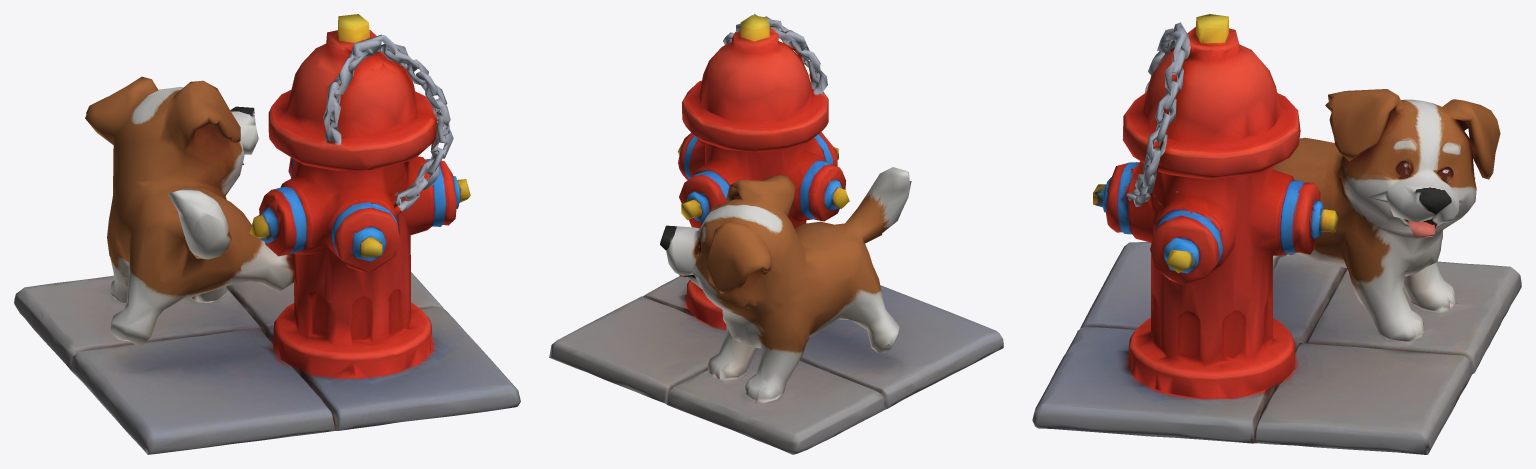
Rendered from CenarioHidrante.glb.
3 renders of one model, left to right at view 1: azimuth 30°, elevation 25°; view 2: azimuth 150°, elevation 25°; view 3: azimuth 270°, elevation 25°, orthographic. The views are drawn at different scales.
Parts seen in each view (by area): view 1: tripo_node_937ae449-fff4-4d2a-89b2-c7af9472cdce; view 2: tripo_node_937ae449-fff4-4d2a-89b2-c7af9472cdce; view 3: tripo_node_937ae449-fff4-4d2a-89b2-c7af9472cdce.
Boxes of the visible parts, x1,y1,x2,y2 form: tripo_node_937ae449-fff4-4d2a-89b2-c7af9472cdce: (14,14,520,454); tripo_node_937ae449-fff4-4d2a-89b2-c7af9472cdce: (549,14,1003,454); tripo_node_937ae449-fff4-4d2a-89b2-c7af9472cdce: (1032,14,1521,454).
Size of the model in its own units: 0.4046 by 0.35 by 0.4246.
Materials: 1 (1 with a texture image).
